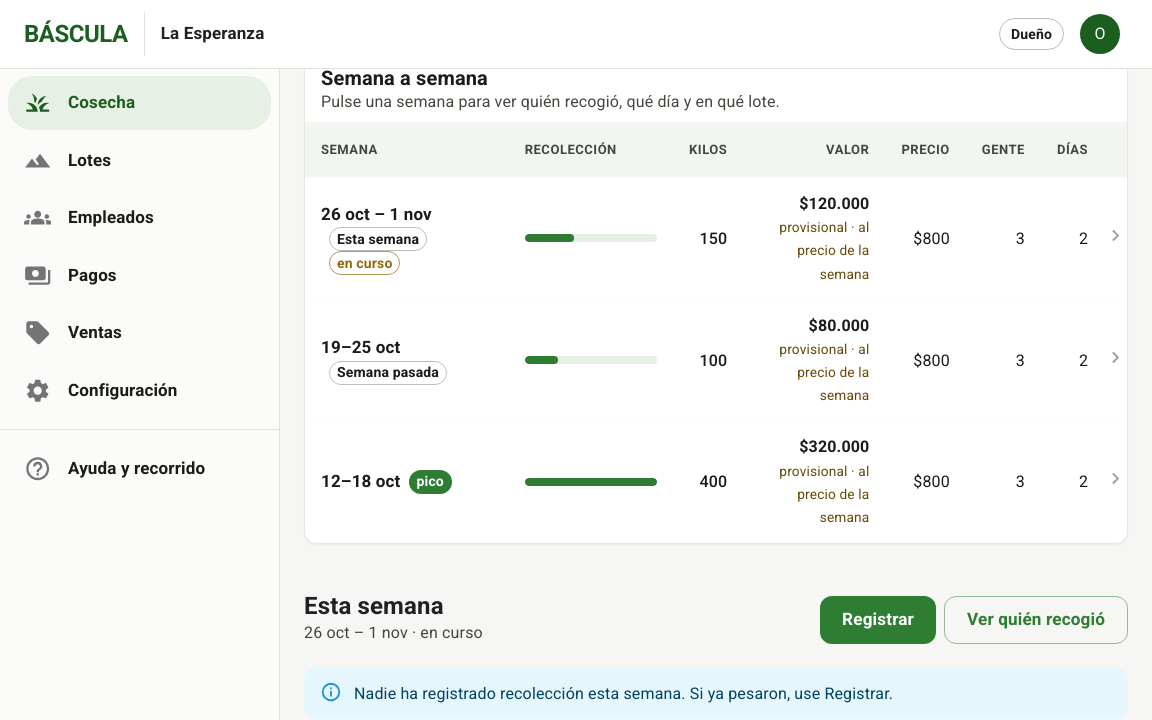
Scenario: going to a week › from a row of the table
(page scrolled)
Click the text "Semana pasada".
click(716, 360)  # box [305,299,1127,421]
(page scrolled)
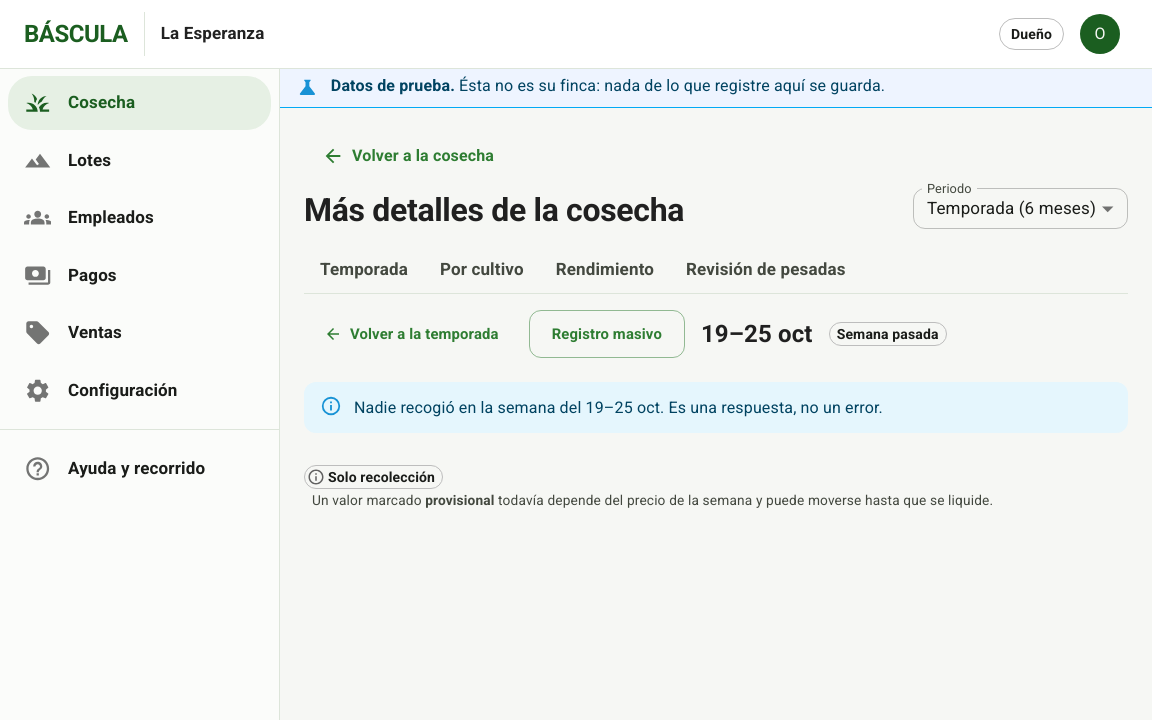
Now the link "Volver a la temporada" is shown, box [324,325,499,343]
